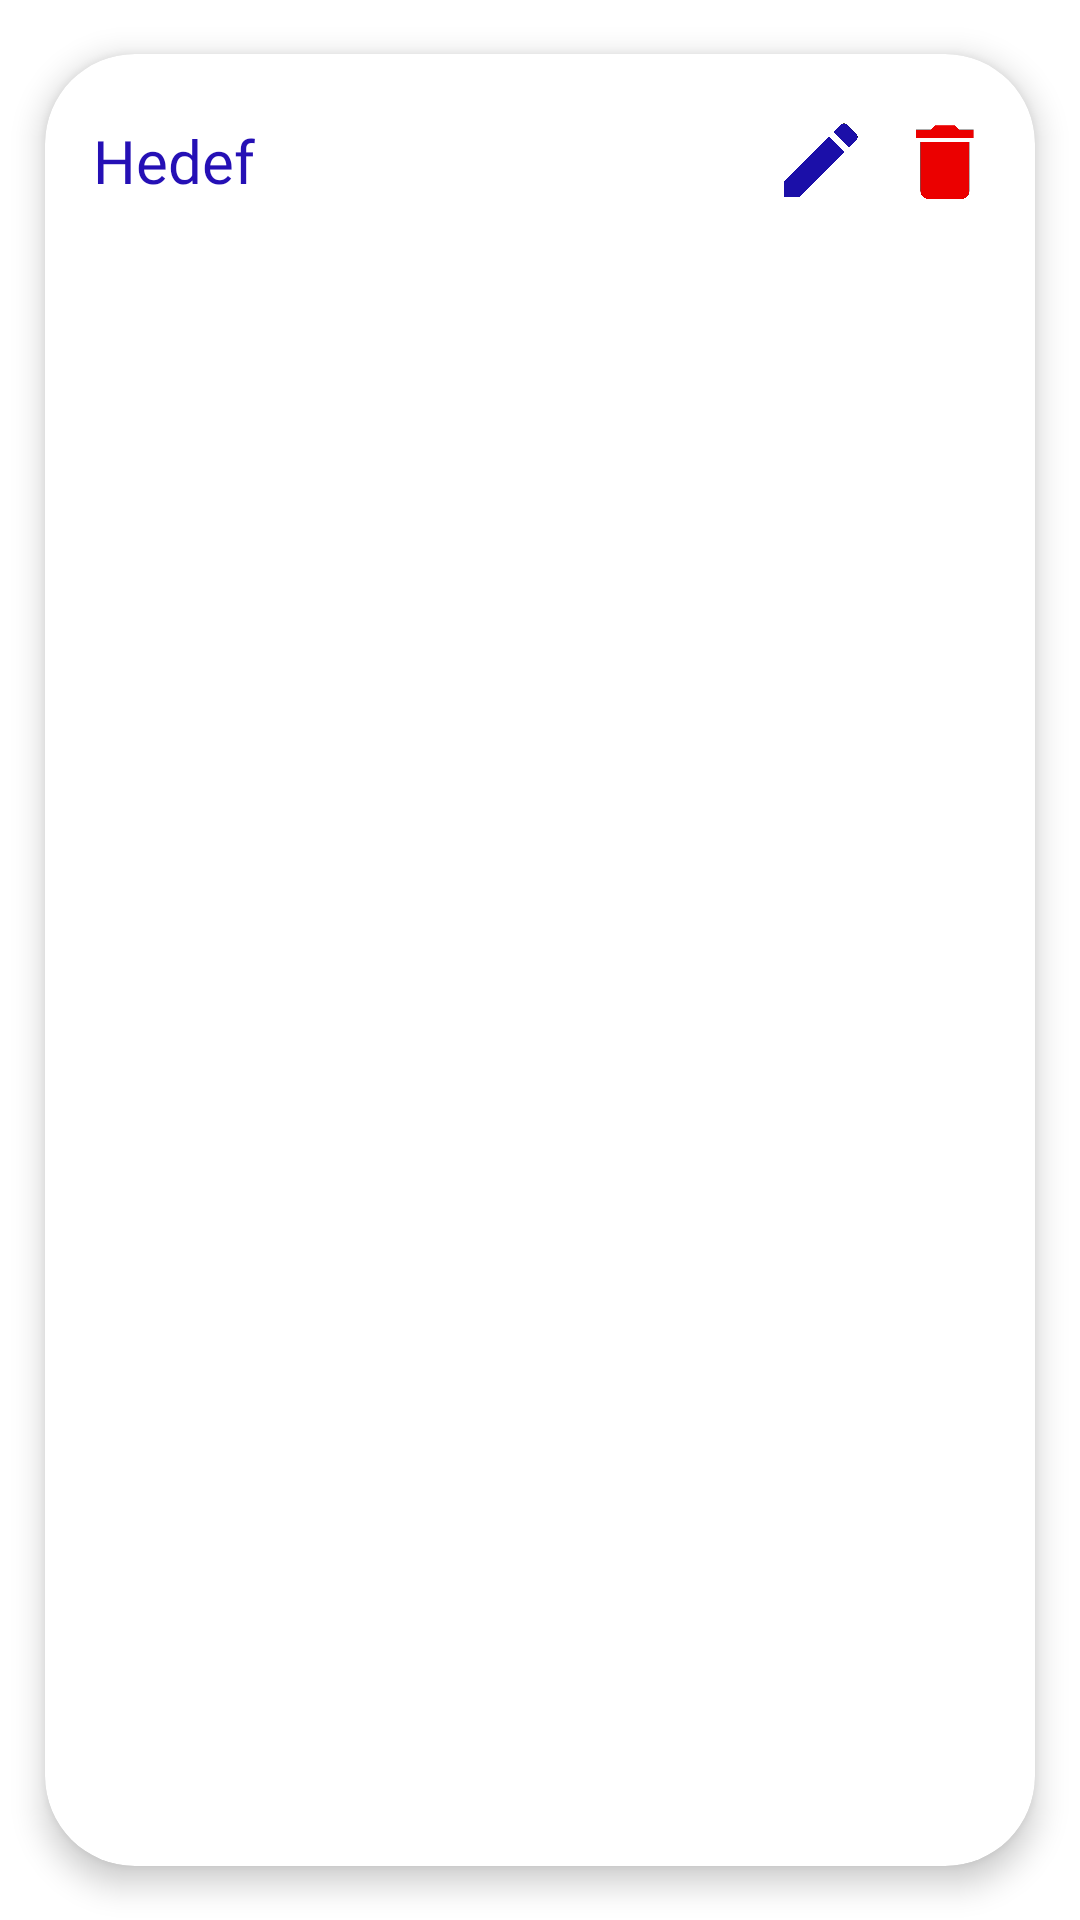

Where to tap for icons on this 1080 × 1920 app screen, as (x,y):
hedef duzenleme buton: (821,160)
silme butonu: (945,162)
